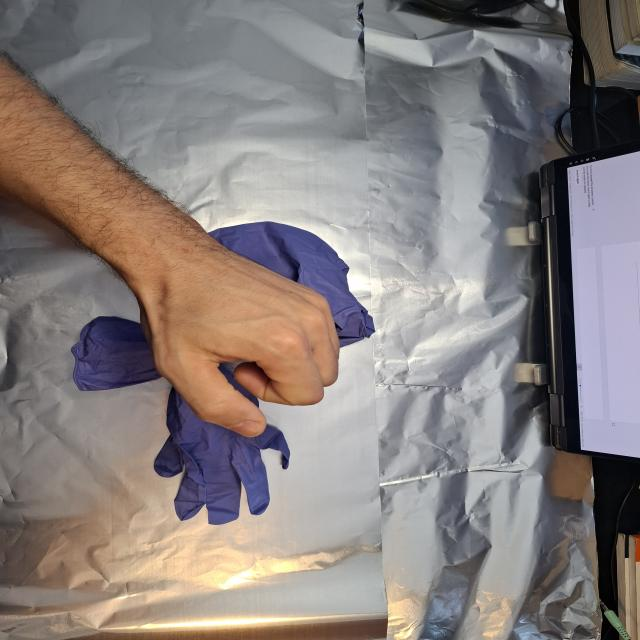glove_off: (134, 243, 343, 440)
